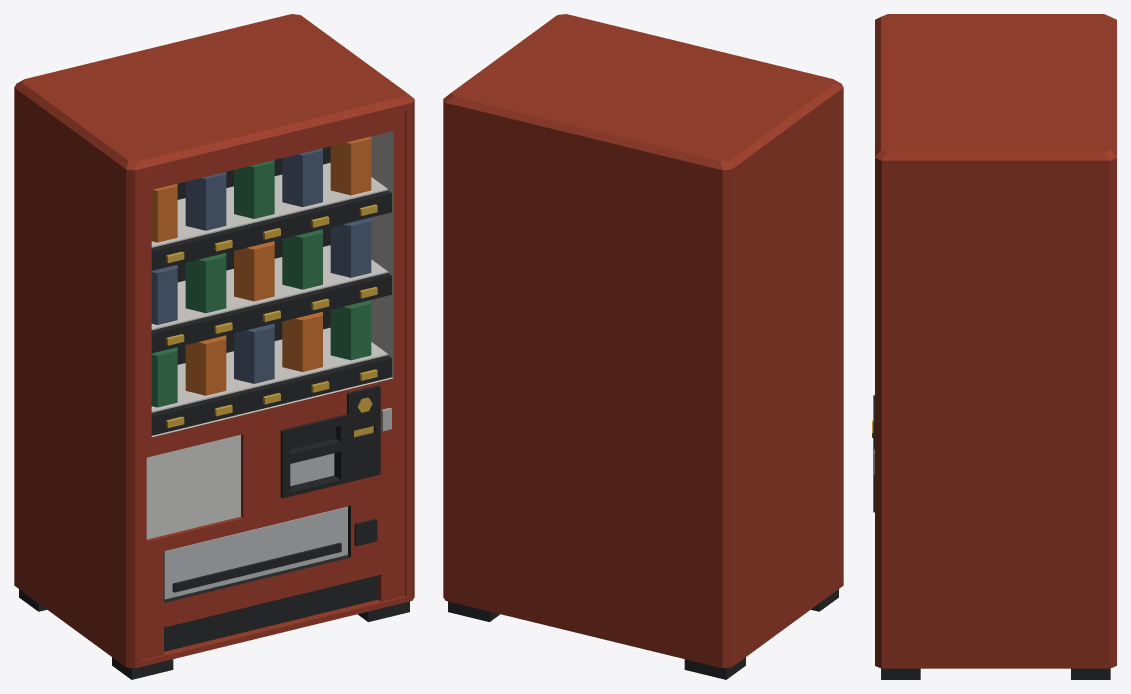
3 renders of one model, left to right at view 1: azimuth 30°, elevation 25°; view 2: azimuth 150°, elevation 25°; view 3: azimuth 270°, elevation 25°, orthographic. The views are drawn at different scales.
Visible parts, largest first — view 1: cabinet, flap-panel; view 2: cabinet; view 3: cabinet.
Part boxes in pixels (box(x1,y1,x2,y2)): cabinet: box(14, 14, 414, 679); flap-panel: box(164, 506, 347, 599); cabinet: box(443, 14, 843, 679); cabinet: box(872, 14, 1116, 679).
Bounding box in the file's own units: 1.11 × 1.9 × 0.799.
